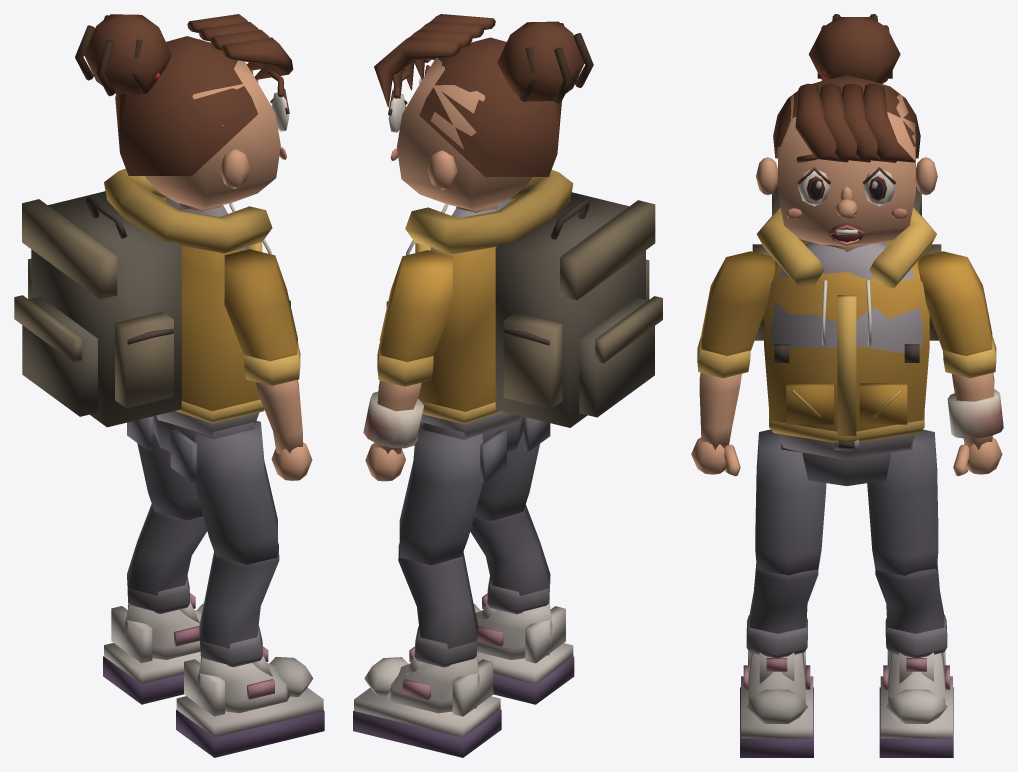
File: npc.survivor-group.aftermath.bun-woman.glb
3 views of the same model, side by side, from view 1: azimuth 30°, elevation 25°; view 2: azimuth 150°, elevation 25°; view 3: azimuth 270°, elevation 25° (orthographic). The views are drawn at different scales.
Parts seen in each view (by area): view 1: torso, head, footR, legR, footL, shinR, armR, shinL, foreArmR, legL, hip, handR; view 2: torso, head, footL, legL, footR, shinL, armL, shinR, foreArmL, legR, hip, handL; view 3: torso, head, legR, legL, footL, footR, armR, armL, shinL, shinR, foreArmL, foreArmR (+3 smaller).
Part boxes in pixels (<box>): torso: <box>14,168,290,436</box>; head: <box>75,14,293,211</box>; footR: <box>176,646,324,757</box>; legR: <box>194,420,277,564</box>; footL: <box>103,593,203,704</box>; shinR: <box>199,542,279,667</box>; armR: <box>224,249,297,361</box>; shinL: <box>127,504,207,613</box>; foreArmR: <box>244,342,302,453</box>; legL: <box>137,432,203,520</box>; hip: <box>127,415,254,482</box>; handR: <box>271,442,312,480</box>; torso: <box>386,170,662,436</box>; head: <box>374,14,593,212</box>; footL: <box>353,646,501,757</box>; legL: <box>399,421,482,565</box>; footR: <box>473,593,574,704</box>; shinL: <box>398,543,478,667</box>; armL: <box>379,250,452,361</box>; shinR: <box>470,504,550,614</box>; foreArmL: <box>363,343,433,454</box>; legR: <box>474,432,539,520</box>; hip: <box>422,416,550,483</box>; handL: <box>365,443,405,481</box>; torso: <box>752,183,941,460</box>; head: <box>756,14,937,251</box>; legR: <box>755,429,826,575</box>; legL: <box>867,429,938,575</box>; footL: <box>879,650,953,757</box>; footR: <box>740,650,813,757</box>; armR: <box>701,251,775,356</box>; armL: <box>918,251,992,355</box>; shinL: <box>875,562,947,658</box>; shinR: <box>746,564,818,658</box>; foreArmL: <box>943,336,1003,450</box>; foreArmR: <box>697,337,750,449</box>.
Size of the model in its own units: 0.6312 by 1.79 by 0.7497.
